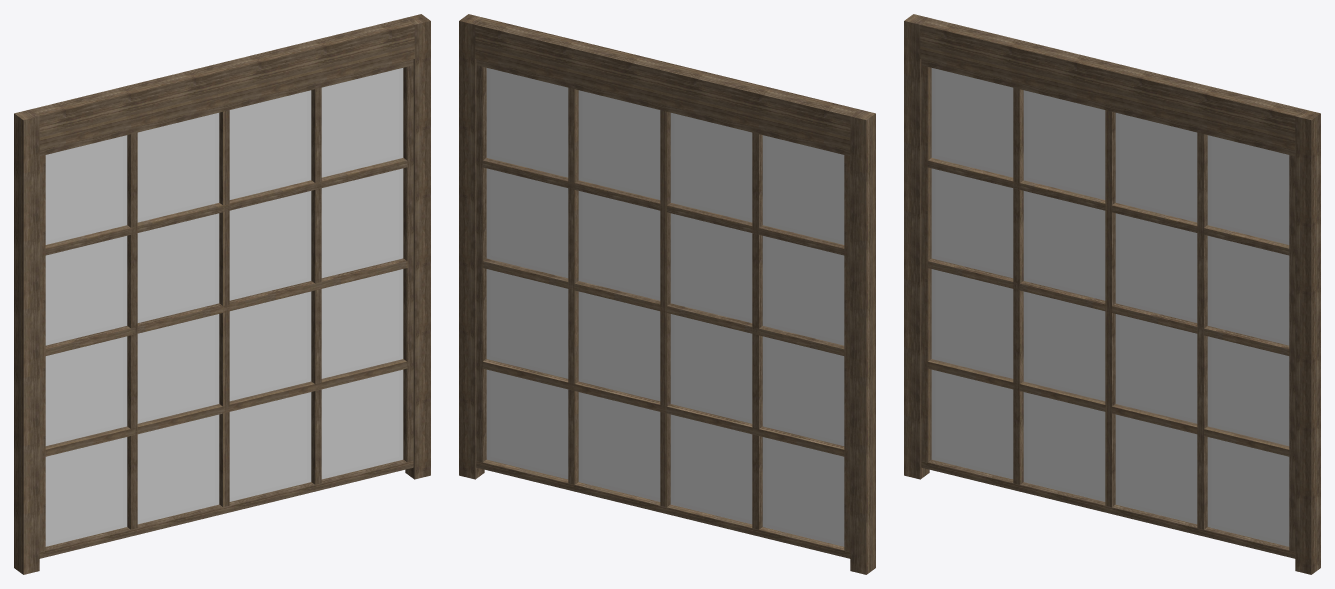
Rendered from es-policaA_h2000_brownebony.fbx.
3 views of the same model, side by side, from view 1: azimuth 30°, elevation 25°; view 2: azimuth 150°, elevation 25°; view 3: azimuth 330°, elevation 25° (orthographic).
Parts seen in each view (by area): view 1: es-policaA_h2000_brownebony; view 2: es-policaA_h2000_brownebony; view 3: es-policaA_h2000_brownebony.
Part boxes in pixels (<box>): es-policaA_h2000_brownebony: <box>14,14,430,574</box>; es-policaA_h2000_brownebony: <box>459,14,875,574</box>; es-policaA_h2000_brownebony: <box>904,14,1320,574</box>.
Bounding box in the file's own units: 187 × 200 × 7.5.
Materials: 2 (1 with a texture image).
